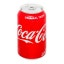paper: (17, 3, 46, 60)
